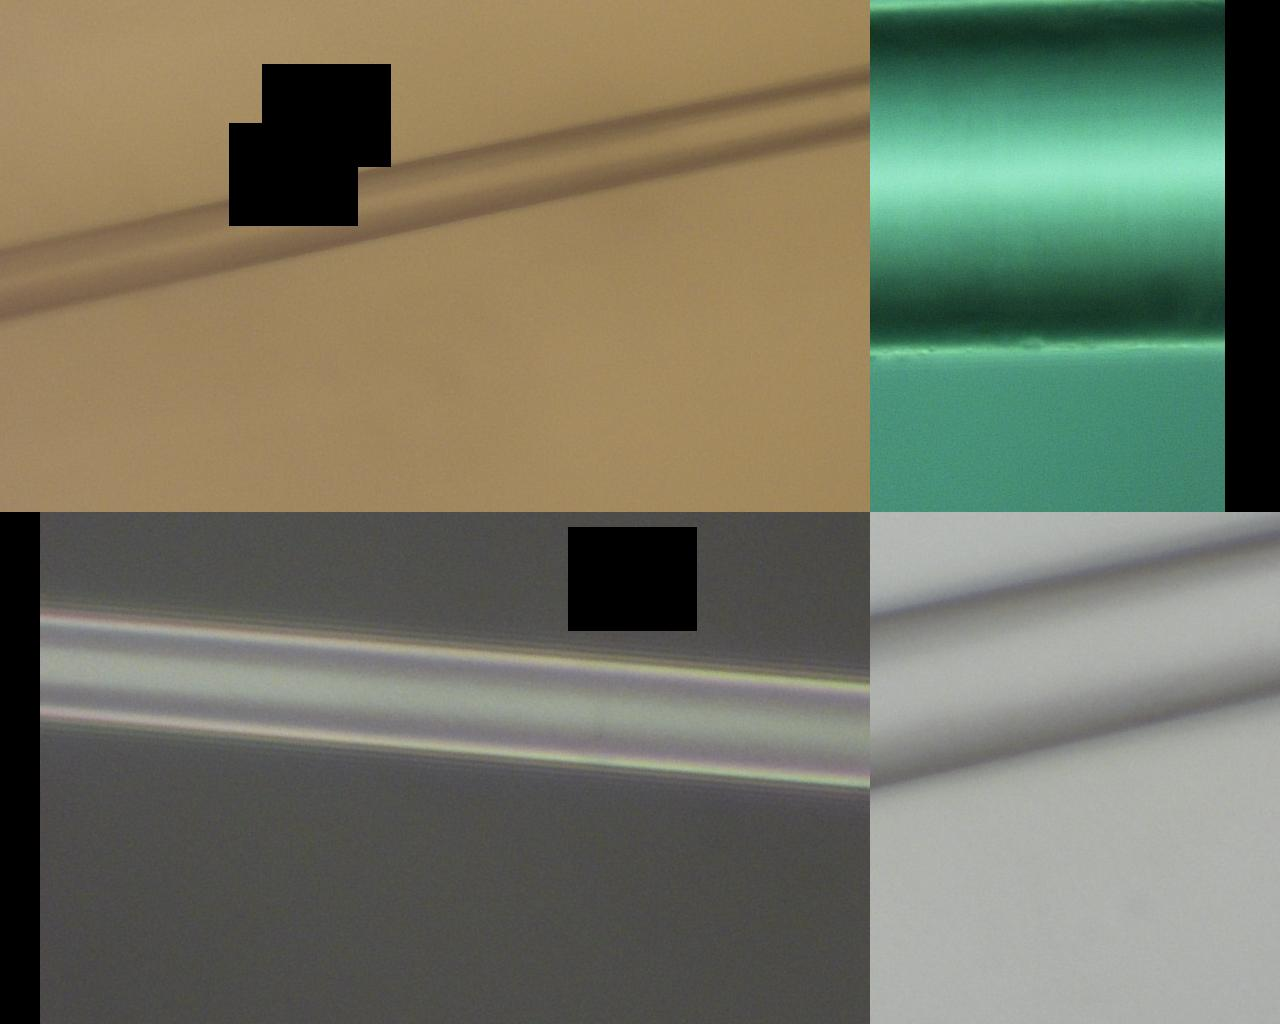fiber: (64, 242, 806, 519), (806, 0, 1280, 418), (806, 675, 1280, 699)
